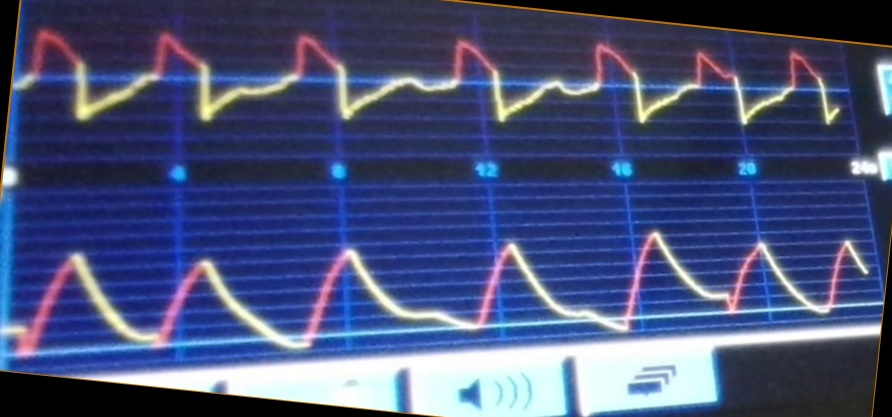Ineffective_effort Flow: (21, 23, 842, 146)
Ineffective_effort Volume: (10, 230, 872, 358)
